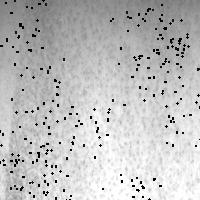pitted_surface: (2, 1, 196, 197), (112, 45, 171, 104), (48, 100, 108, 157), (10, 149, 70, 200), (0, 110, 56, 164), (11, 49, 63, 107), (135, 13, 181, 71), (0, 0, 45, 57), (165, 85, 200, 145), (164, 33, 200, 85), (109, 0, 167, 30), (100, 174, 159, 200)
